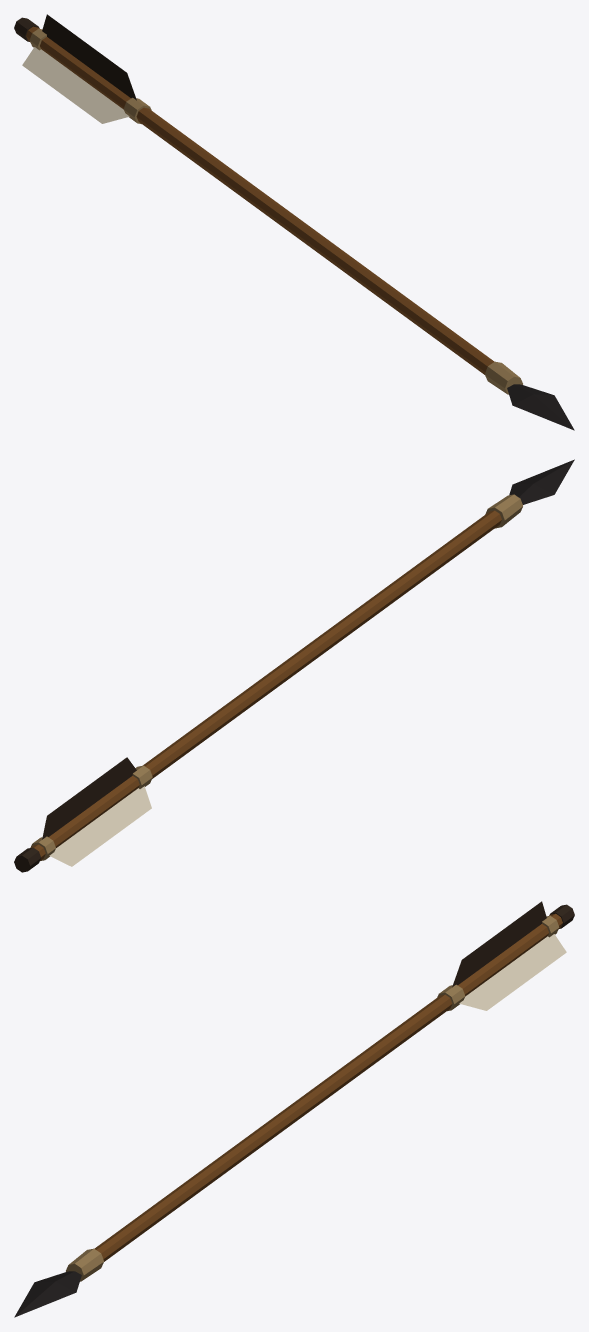
File: arrow.glb
The picture shows the model from 3 angles, top to bottom: view 1: azimuth 30°, elevation 25°; view 2: azimuth 150°, elevation 25°; view 3: azimuth 330°, elevation 25°; orthographic projection.
Visible parts, largest first — view 1: arrow; view 2: arrow; view 3: arrow.
Part boxes in pixels (left/top/right/bottom): arrow: left=14, top=14, right=574, bottom=430; arrow: left=14, top=459, right=574, bottom=872; arrow: left=14, top=901, right=574, bottom=1317.
Bounding box in the file's own units: 0.052 × 0.045 × 1.
